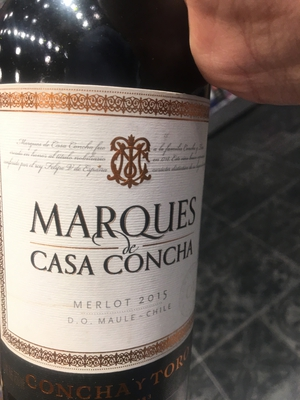marques de casa concha merlot: (1, 23, 229, 398)
